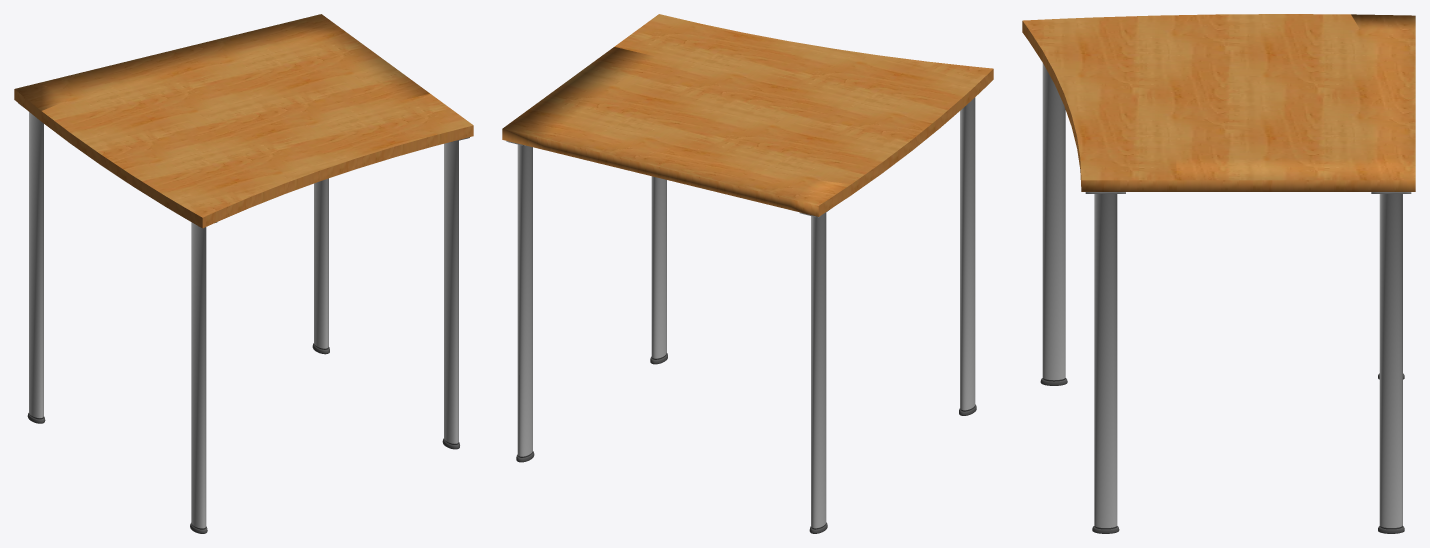
Rendered from sh-scopia-wooden-office-alder-table.glb.
3 views of the same model, side by side, from view 1: azimuth 30°, elevation 25°; view 2: azimuth 150°, elevation 25°; view 3: azimuth 270°, elevation 25° (orthographic). The views are drawn at different scales.
Parts seen in each view (by area): view 1: alder_table_Cube.002, leg_downright2_Cylinder.007; view 2: alder_table_Cube.002, leg_downright2_Cylinder.007; view 3: alder_table_Cube.002, leg_downright2_Cylinder.007.
Part boxes in pixels (x1=…): alder_table_Cube.002: x1=14, y1=14, x2=473, y2=228; leg_downright2_Cylinder.007: x1=18, y1=103, x2=469, y2=533; alder_table_Cube.002: x1=502, y1=14, x2=993, y2=216; leg_downright2_Cylinder.007: x1=506, y1=97, x2=976, y2=533; alder_table_Cube.002: x1=1022, y1=14, x2=1415, y2=191; leg_downright2_Cylinder.007: x1=1040, y1=63, x2=1411, y2=533.
Bounding box in the file's own units: 1 × 1 × 1.
3 materials, 1 textured.
